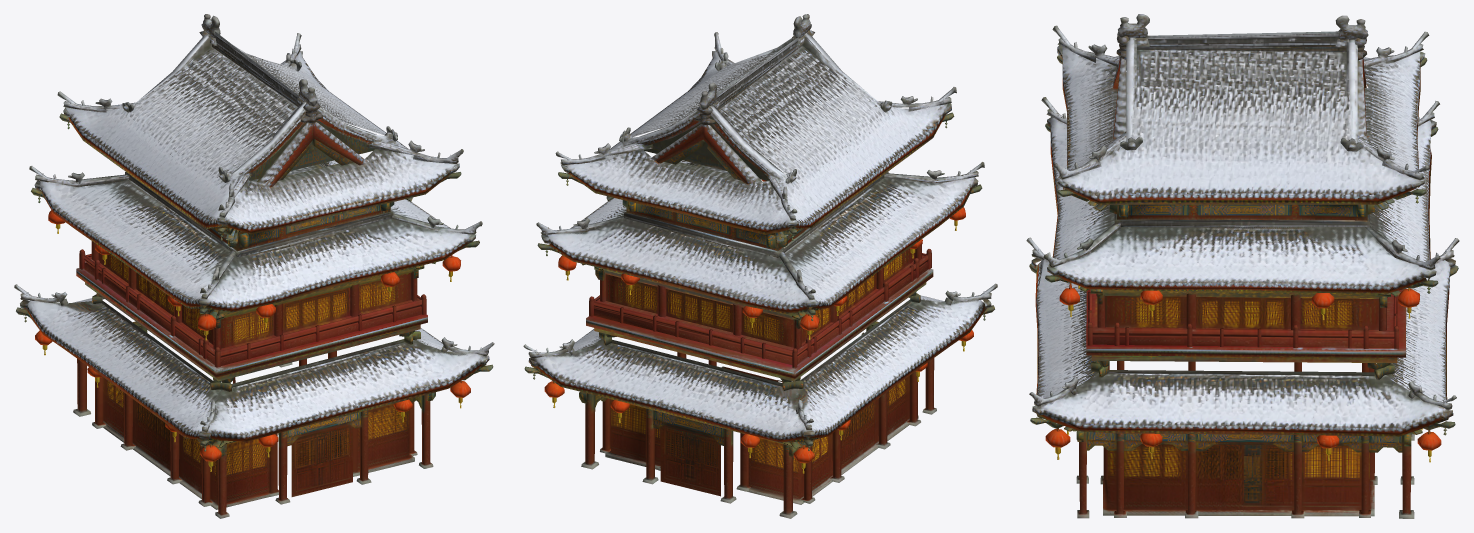
File: snow-house.glb
The picture shows the model from 3 angles, left to right: view 1: azimuth 30°, elevation 25°; view 2: azimuth 150°, elevation 25°; view 3: azimuth 270°, elevation 25°; orthographic projection. The views are drawn at different scales.
Visible parts, largest first — view 1: tripo_5dd040aa_8caf_44f7_9811_213d6a7b0f5a; view 2: tripo_5dd040aa_8caf_44f7_9811_213d6a7b0f5a; view 3: tripo_5dd040aa_8caf_44f7_9811_213d6a7b0f5a.
Boxes of the visible parts, box(x1,y1,x2,y2) form: tripo_5dd040aa_8caf_44f7_9811_213d6a7b0f5a: box(14, 14, 494, 518); tripo_5dd040aa_8caf_44f7_9811_213d6a7b0f5a: box(523, 14, 997, 518); tripo_5dd040aa_8caf_44f7_9811_213d6a7b0f5a: box(1026, 14, 1459, 518).
Bounding box in the file's own units: 0.7866 × 0.9995 × 0.8726.
Materials: 1 (1 with a texture image).
